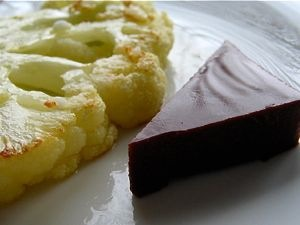cauliflower: (1, 0, 176, 209)
